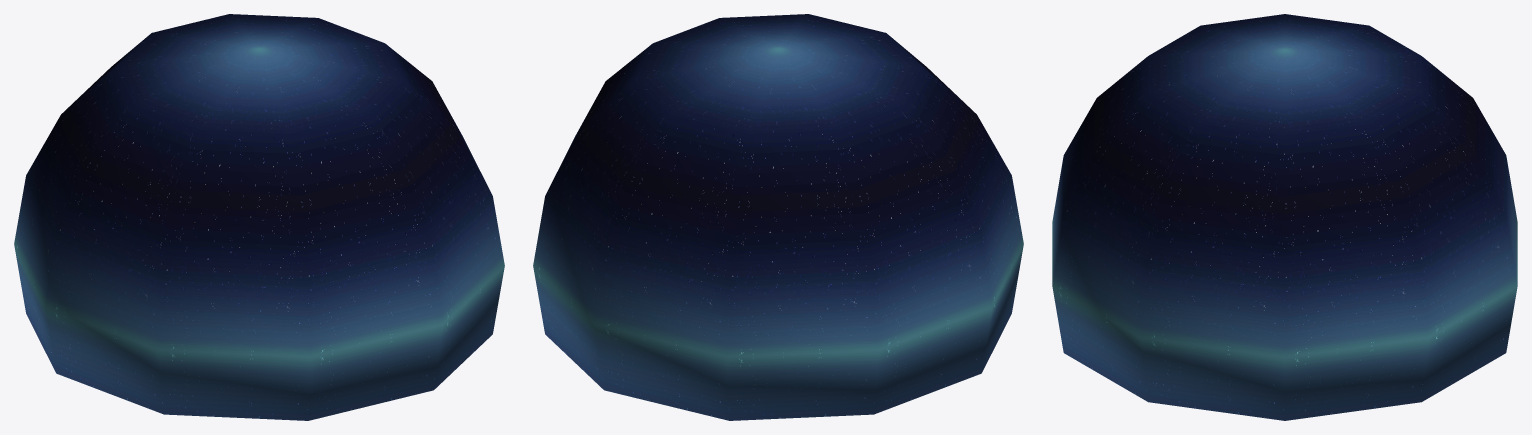
The picture shows the model from 3 angles, left to right: view 1: azimuth 30°, elevation 25°; view 2: azimuth 150°, elevation 25°; view 3: azimuth 270°, elevation 25°; orthographic projection.
Parts seen in each view (by area): view 1: vsn_mesh_43_pSphere3; view 2: vsn_mesh_43_pSphere3; view 3: vsn_mesh_43_pSphere3.
Boxes of the visible parts, x1,y1,x2,y2 form: vsn_mesh_43_pSphere3: (14,14,504,420); vsn_mesh_43_pSphere3: (533,14,1023,420); vsn_mesh_43_pSphere3: (1052,14,1517,420).
Size of the model in its own units: 3480 by 2141 by 3310.
45 materials, 44 textured.
